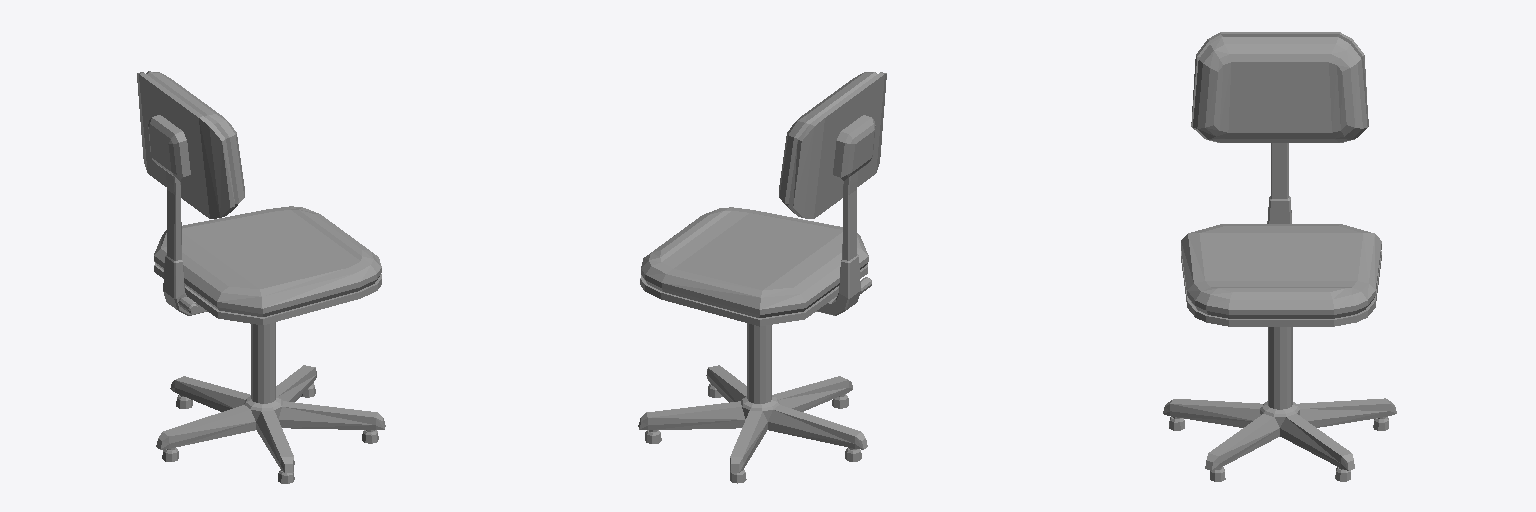
Rendered from texchair.obj.
3 views of the same model, side by side, from view 1: azimuth 30°, elevation 25°; view 2: azimuth 150°, elevation 25°; view 3: azimuth 270°, elevation 25° (orthographic).
Visible parts, largest first — view 1: Cylinder01; view 2: Cylinder01; view 3: Cylinder01.
Boxes of the visible parts, box(x1,y1,x2,y2) form: Cylinder01: box(137, 71, 385, 483); Cylinder01: box(638, 72, 886, 483); Cylinder01: box(1163, 32, 1396, 481).
Bounding box in the file's own units: 22.74 × 40.37 × 23.64.